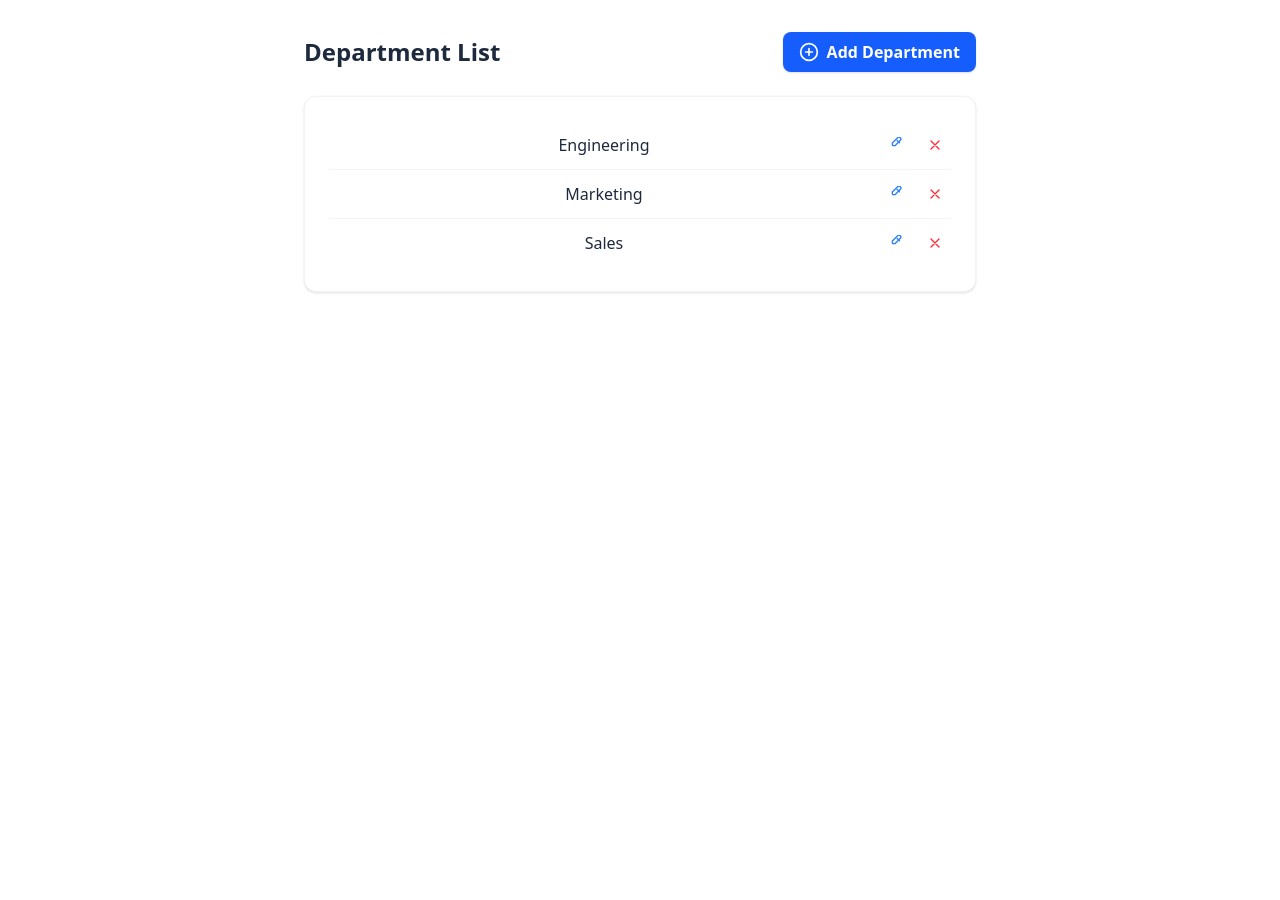
Scenario: DepartmentSelector › should open add department modal when add button is clicked
This screenshot has width=1280, height=900.
Step 1. Click the button "Add Department" → (879, 52), box [783,32,976,72]
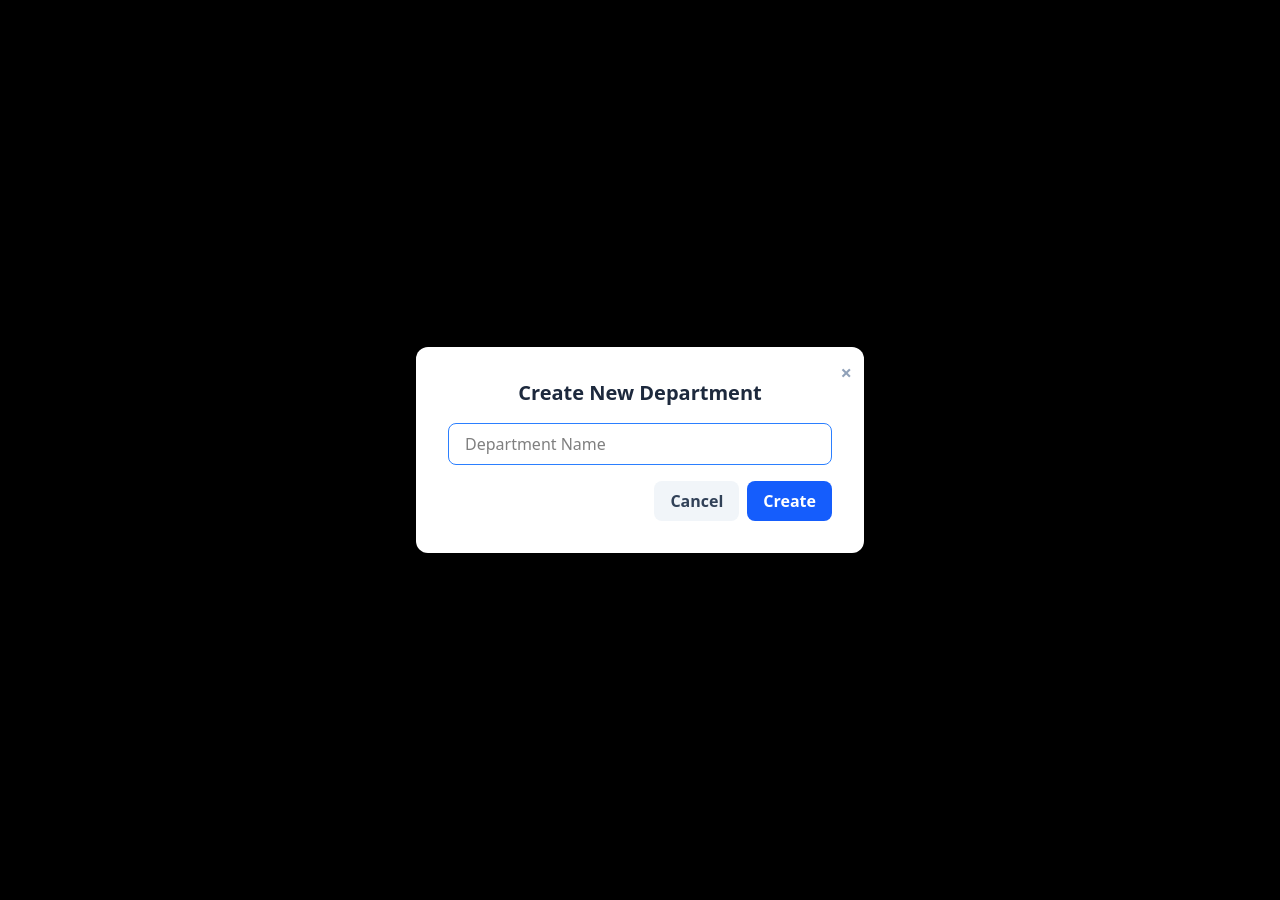
Result: the heading "Create New Department" is shown at [518,379,762,406]
Result: the field with placeholder "Department Name" is shown at [448,423,832,465]
